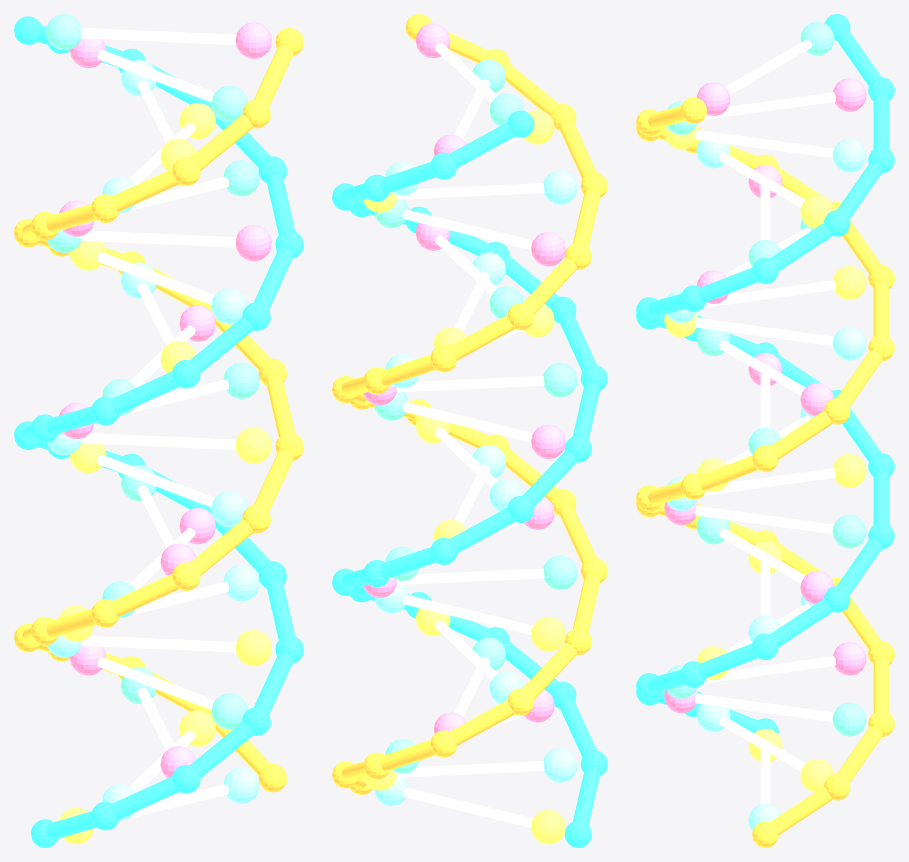
File: DNA_DoubleHelix_3D.glb
The picture shows the model from 3 angles, left to right: view 1: azimuth 30°, elevation 25°; view 2: azimuth 150°, elevation 25°; view 3: azimuth 270°, elevation 25°; orthographic projection. The views are drawn at different scales.
Parts seen in each view (by area): view 1: Cylinder.019, Cylinder.004, Cylinder.009, Cylinder.014, Cylinder.003, Cylinder.013, Cylinder.008, Cylinder.018, Cylinder.025, Cylinder.034, Cylinder.045, Cylinder.054 (+74 smaller); view 2: Cylinder.016, Cylinder.001, Cylinder.011, Cylinder.006, Cylinder.010, Cylinder.015, Cylinder.005, Cylinder, Cylinder.057, Cylinder.026, Cylinder.037, Cylinder.046 (+70 smaller); view 3: Cylinder.017, Cylinder.002, Cylinder.007, Cylinder.012, Cylinder.018, Cylinder.008, Cylinder.013, Cylinder.003, Cylinder.020, Cylinder.031, Cylinder.040, Cylinder.051 (+66 smaller).
Boxes of the visible parts, x1,y1,x2,y2 form: Cylinder.019: (80, 27, 236, 44); Cylinder.004: (80, 635, 236, 652); Cylinder.009: (80, 433, 236, 449); Cylinder.014: (80, 230, 236, 247); Cylinder.003: (97, 657, 214, 709); Cylinder.013: (97, 252, 214, 304); Cylinder.008: (97, 455, 214, 507); Cylinder.018: (97, 50, 214, 102); Cylinder.025: (190, 722, 253, 778); Cylinder.034: (190, 519, 253, 575); Cylinder.045: (190, 317, 253, 373); Cylinder.054: (190, 114, 253, 170); Cylinder.016: (396, 183, 544, 199); Cylinder.001: (396, 761, 544, 777); Cylinder.011: (396, 376, 544, 392); Cylinder.006: (396, 568, 544, 584); Cylinder.010: (403, 402, 533, 442); Cylinder.015: (403, 209, 533, 249); Cylinder.005: (403, 594, 533, 635); Cylinder: (403, 787, 533, 827); Cylinder.057: (449, 122, 514, 167); Cylinder.026: (449, 700, 514, 745); Cylinder.037: (449, 507, 514, 553); Cylinder.046: (449, 315, 514, 360); Cylinder.017: (695, 130, 833, 158); Cylinder.002: (695, 693, 833, 721); Cylinder.007: (695, 505, 833, 533); Cylinder.012: (695, 318, 833, 346); Cylinder.018: (703, 92, 835, 119); Cylinder.008: (703, 468, 835, 495); Cylinder.013: (703, 280, 835, 307); Cylinder.003: (703, 656, 835, 683); Cylinder.020: (770, 786, 832, 835); Cylinder.031: (770, 598, 832, 647); Cylinder.040: (770, 410, 832, 459); Cylinder.051: (770, 222, 832, 271).
Size of the model in its own units: 4.43 by 13.48 by 4.24.
